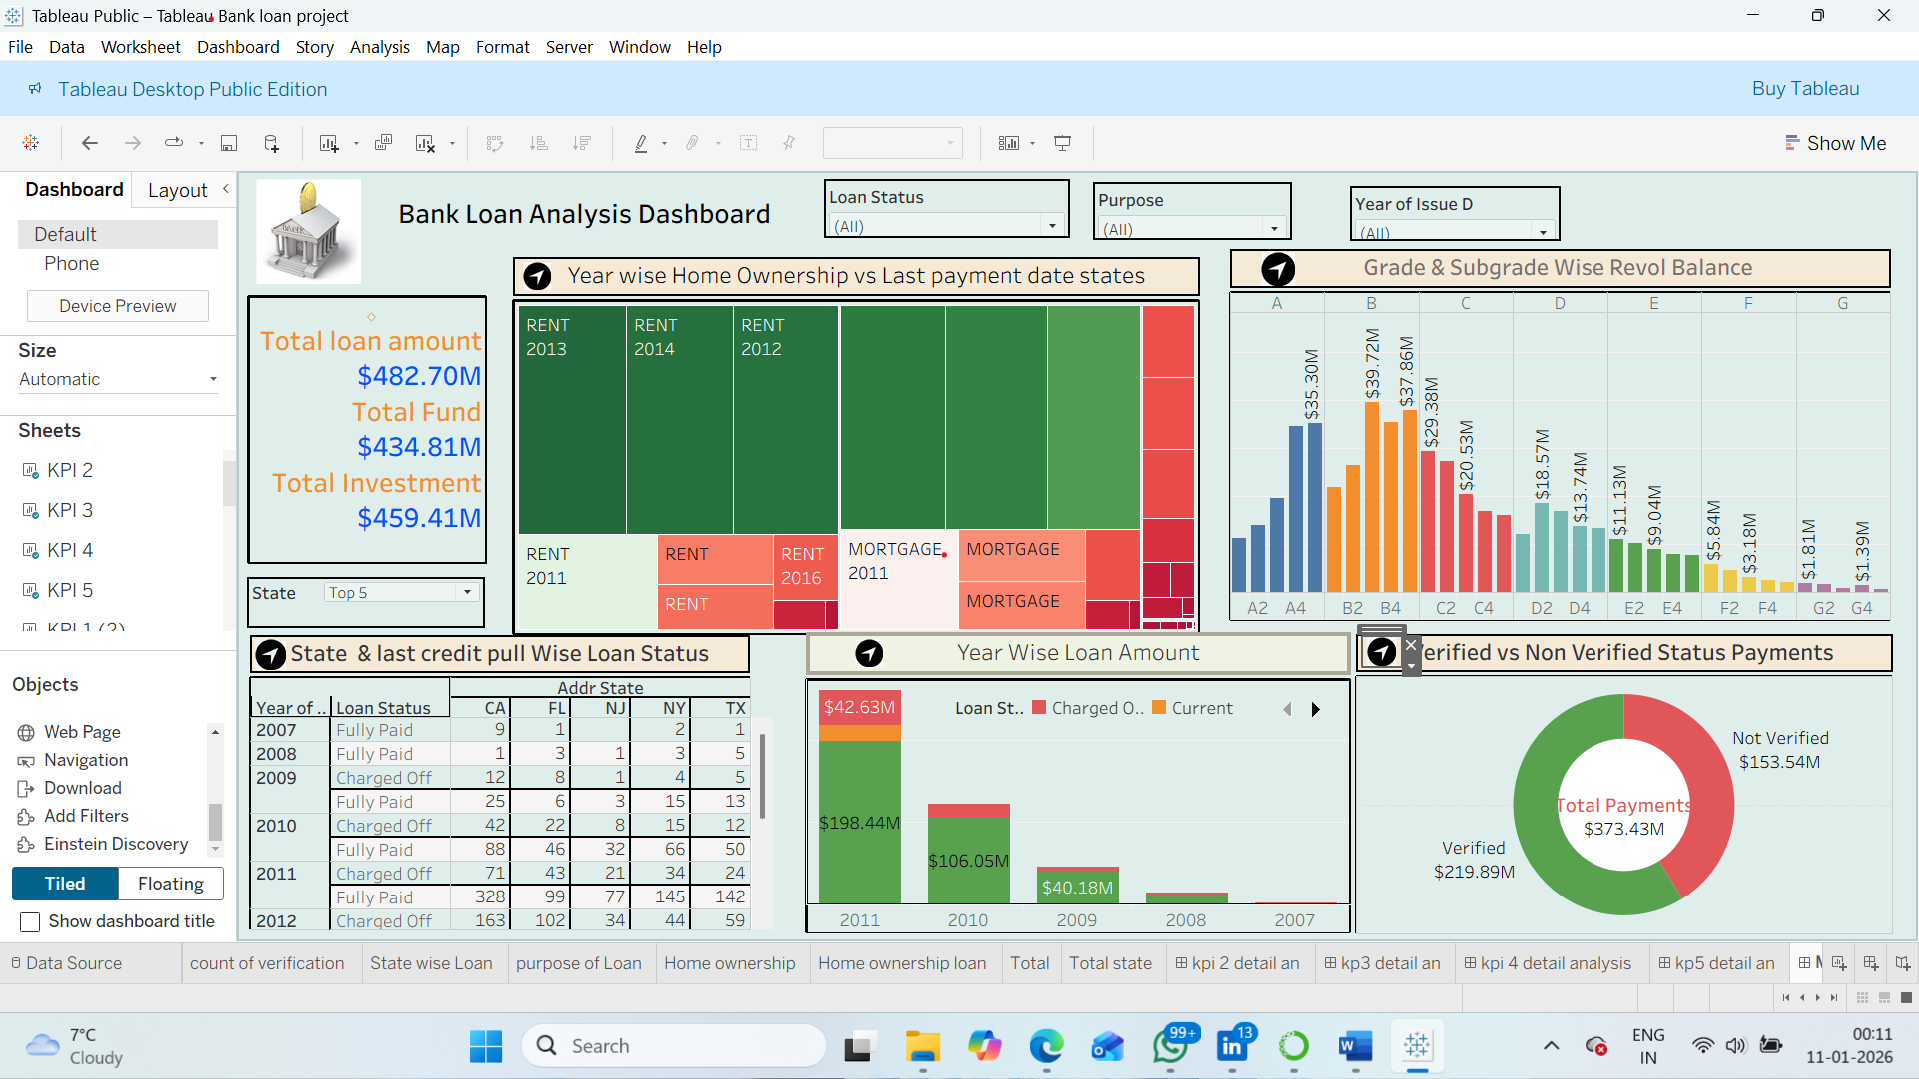

This screenshot's page, from the dashboard's own definition file:
{"tool":"tableau","page":{"name":"Main Dashboard","canvas":[1000,1000],"units":"permille","ordinal":0},"visuals":[{"type":"image","param":"D:/Bank IMg.jpg","box":[8.9,5.2,83.2,146.6]},{"type":"filter","title":"KPI 1","param":"[federated.0ln7vc21ybhlks1d4d4h10l4ec6u].[none:loan_status:nk]","box":[349,10.4,146.2,76.5]},{"type":"filter","title":"KPI 1","param":"[federated.0ln7vc21ybhlks1d4d4h10l4ec6u].[none:purpose:nk]","box":[508.9,14.3,118.3,75.2]},{"type":"filter","title":"KPI 1","param":"[federated.0ln7vc21ybhlks1d4d4h10l4ec6u].[yr:issue_d:ok]","box":[661.7,19.5,125.5,71.3]},{"type":"text","box":[82,22.1,249.1,63.6]},{"type":"worksheet","title":"KPI 2","mark":"Automatic","rows":["revol_bal"],"cols":["grade","sub_grade"],"box":[589.8,101.2,394.2,482.5]},{"type":"dashboard-object","box":[593.3,105.1,51.7,44.1]},{"type":"worksheet","title":"KPI 5","mark":"Automatic","box":[161.1,106.4,413.8,500.7]},{"type":"dashboard-object","box":[165.3,118,26.2,36.3]},{"type":"worksheet","title":"Total","mark":"Bar","box":[6,160.8,143.3,348.9]},{"type":"parameter","param":"[Parameters].[Parameter 1]","box":[6,526.6,141.5,66.2]},{"type":"worksheet","title":"KPI 1","mark":"Bar","rows":["loan_amnt"],"cols":["issue_d"],"box":[337.7,597.9,324.6,391.7]},{"type":"worksheet","title":"KPI 3","mark":"Pie","rows":["Calculation_1309421613196406784","Calculation_1309421613196406784"],"box":[664.7,600.5,320.4,390.4]},{"type":"worksheet","title":"KPI 4","mark":"Automatic","rows":["last_credit_pull_d","loan_status"],"cols":["addr_state"],"box":[7.1,601.8,327,383.9]},{"type":"dashboard-object","box":[669.4,604.4,22.6,37.6]},{"type":"dashboard-object","box":[9.5,607,21.4,40.2]},{"type":"dashboard-object","box":[351.4,607,49.4,36.3]},{"type":"legend","title":"KPI 1","param":"[federated.0ln7vc21ybhlks1d4d4h10l4ec6u].[none:loan_status:nk]","box":[426.9,679.6,224.1,37.6]}]}

Visuals, with their boxes on the dashboard's canvas, which has no fixed pixel size, in thousandths of its width and height (x1, y1, x2, y2). These are canvas units, not pixel positions in the 1919x1079 screenshot, which may show the page scaled, cropped or inside an application window:
image: (x1=9, y1=5, x2=92, y2=152)
"KPI 1" filter: (x1=349, y1=10, x2=495, y2=87)
"KPI 1" filter: (x1=509, y1=14, x2=627, y2=90)
"KPI 1" filter: (x1=662, y1=20, x2=787, y2=91)
text: (x1=82, y1=22, x2=331, y2=86)
"KPI 2" worksheet: (x1=590, y1=101, x2=984, y2=584)
dashboard-object: (x1=593, y1=105, x2=645, y2=149)
"KPI 5" worksheet: (x1=161, y1=106, x2=575, y2=607)
dashboard-object: (x1=165, y1=118, x2=192, y2=154)
"Total" worksheet (Bar marks): (x1=6, y1=161, x2=149, y2=510)
parameter: (x1=6, y1=527, x2=148, y2=593)
"KPI 1" worksheet (Bar marks): (x1=338, y1=598, x2=662, y2=990)
"KPI 3" worksheet (Pie marks): (x1=665, y1=600, x2=985, y2=991)
"KPI 4" worksheet: (x1=7, y1=602, x2=334, y2=986)
dashboard-object: (x1=669, y1=604, x2=692, y2=642)
dashboard-object: (x1=10, y1=607, x2=31, y2=647)
dashboard-object: (x1=351, y1=607, x2=401, y2=643)
"KPI 1" legend: (x1=427, y1=680, x2=651, y2=717)
